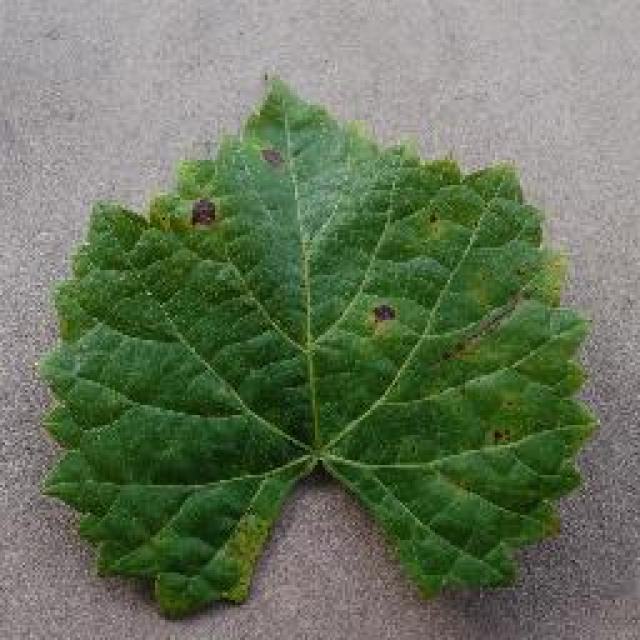Grape___Black_rot: (28, 61, 609, 626)
